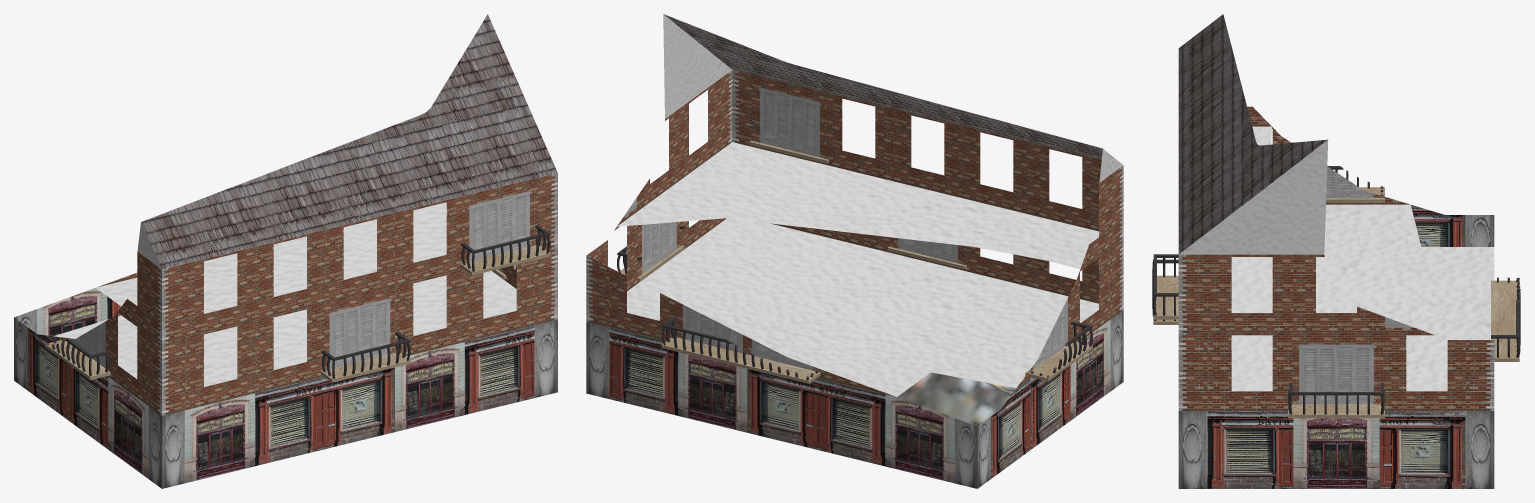
The model's file is House_004_destroyed_001.dae.
3 renders of one model, left to right at view 1: azimuth 30°, elevation 25°; view 2: azimuth 150°, elevation 25°; view 3: azimuth 270°, elevation 25°, orthographic. The views are drawn at different scales.
Parts seen in each view (by area): view 1: House_004; view 2: House_004; view 3: House_004.
Part boxes in pixels (<box>): House_004: <box>14,14,557,488</box>; House_004: <box>586,14,1123,488</box>; House_004: <box>1152,14,1520,488</box>.
Size of the model in its own units: 151 by 103 by 107.
1 material, 1 textured.
